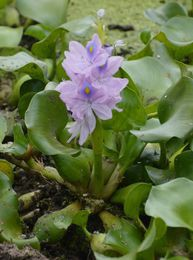water_hyacinth: (0, 32, 193, 260)
